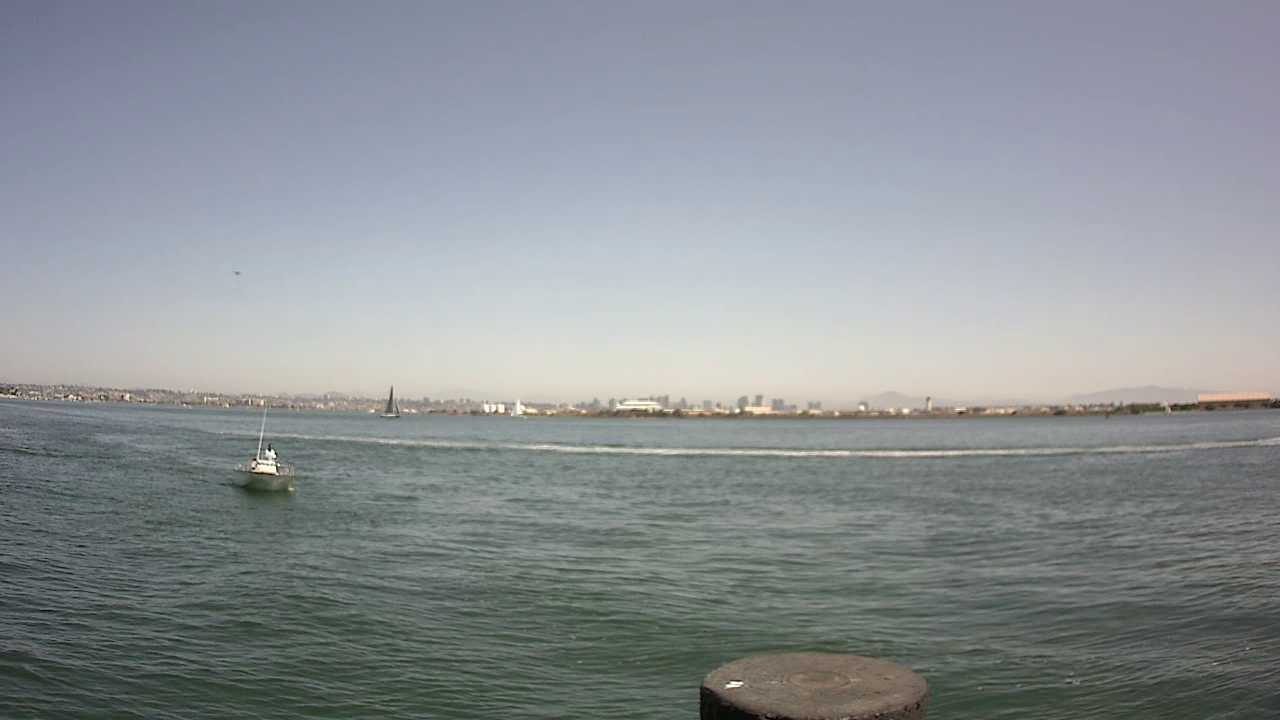target: (225, 438, 301, 498)
